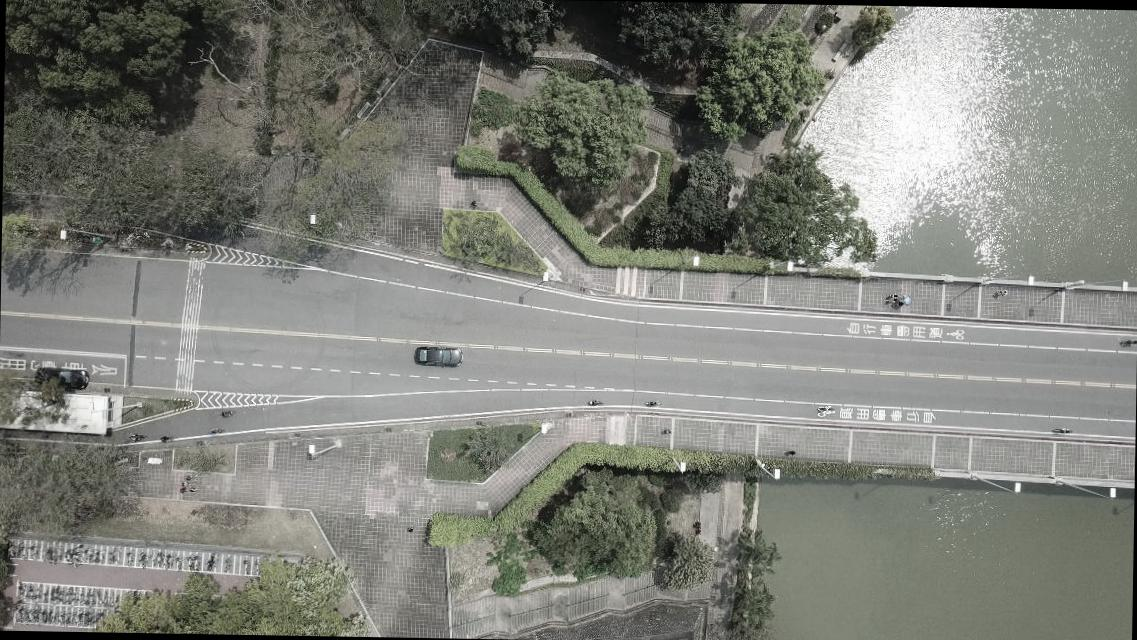vehicle: (34, 366, 89, 389), (413, 345, 462, 367)
